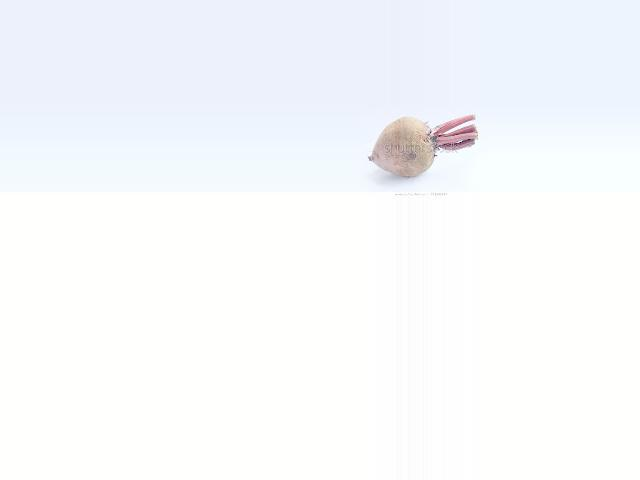beet: (369, 116, 476, 176)
